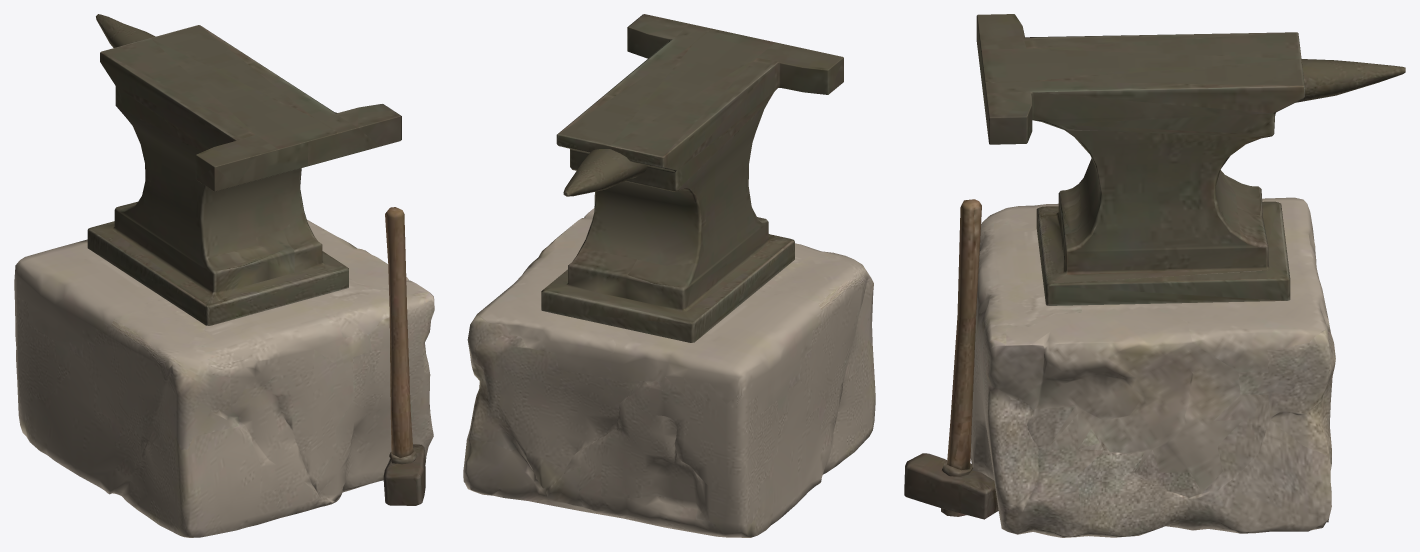
The model's file is blacksmith_anvil.glb.
3 renders of one model, left to right at view 1: azimuth 30°, elevation 25°; view 2: azimuth 150°, elevation 25°; view 3: azimuth 270°, elevation 25°, orthographic. The views are drawn at different scales.
Visible parts, largest first — view 1: blacksmith_anvil; view 2: blacksmith_anvil; view 3: blacksmith_anvil.
Boxes of the visible parts, box(x1,y1,x2,y2) form: blacksmith_anvil: box(14, 14, 434, 537); blacksmith_anvil: box(463, 14, 875, 537); blacksmith_anvil: box(904, 14, 1405, 537).
Size of the model in its own units: 0.5243 by 0.65 by 0.7325.
1 material, 1 textured.
